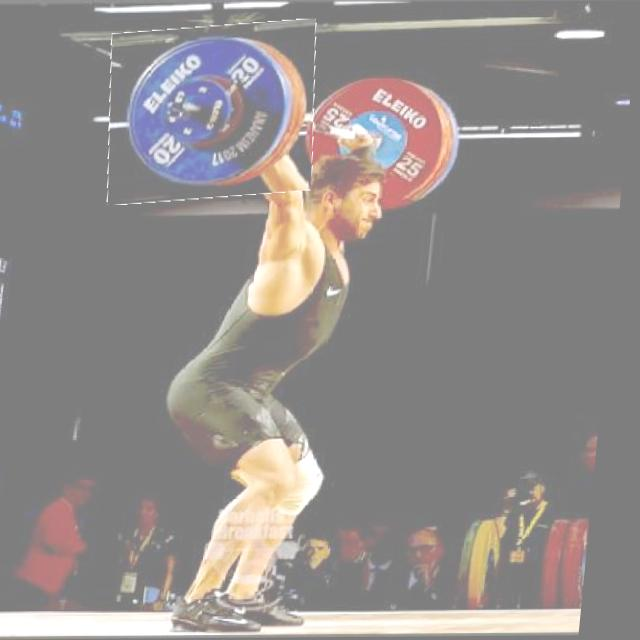barbell: (104, 24, 326, 204)
